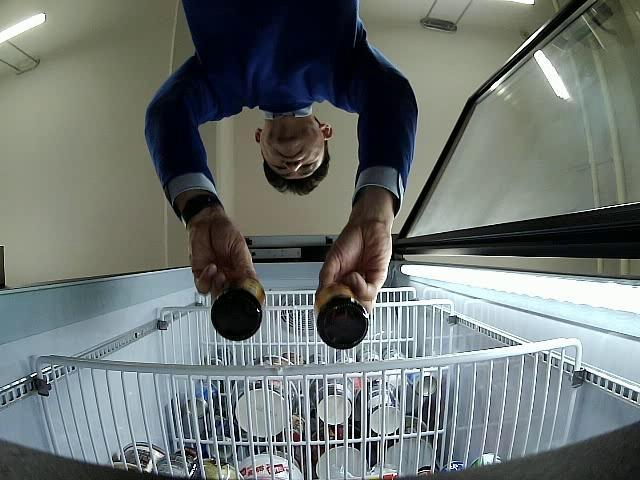17_vita500: (312, 280, 371, 348), (211, 272, 266, 340)
